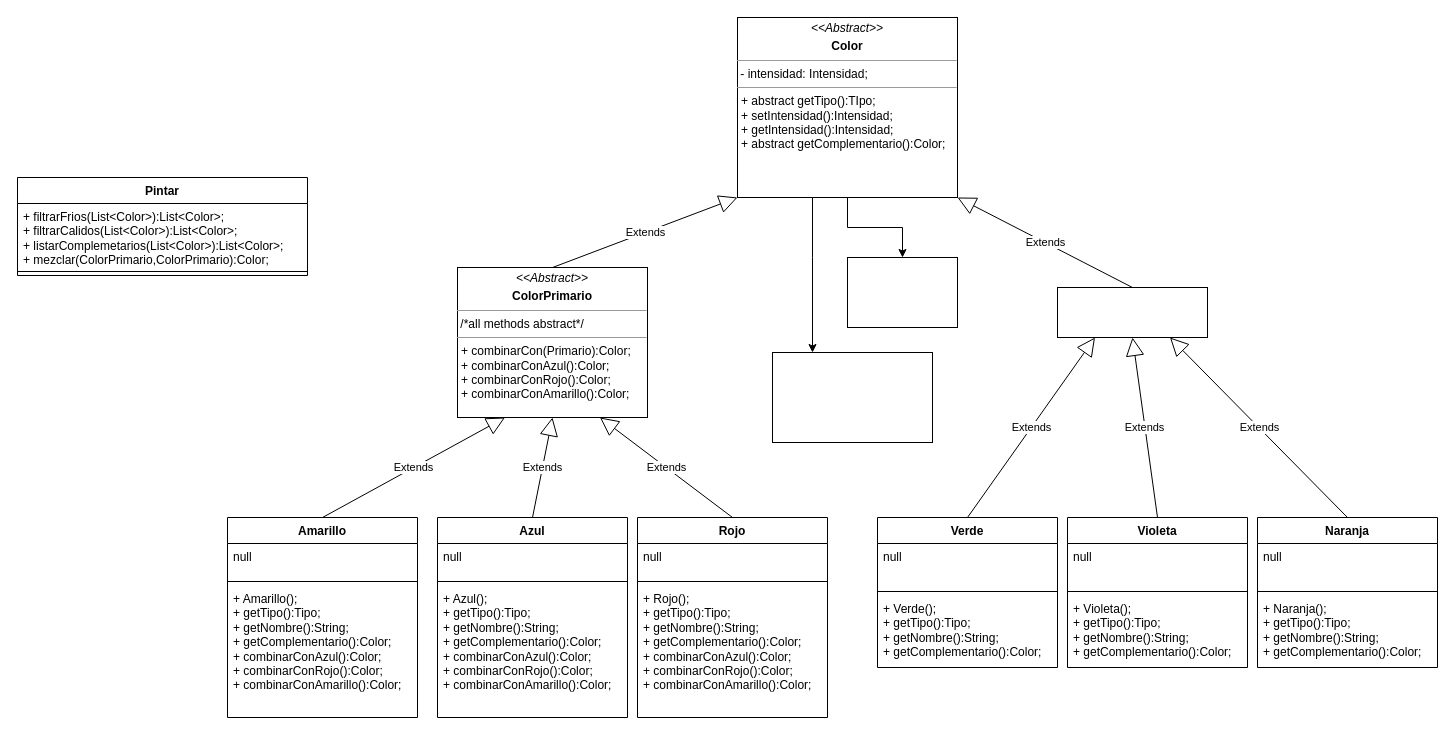
Image size: 1455x738. Some labels were removed from this diagram. The shapes that lost their labels are listed below. From the top down, each one's centre as x and y in pixels, then its label:
At (x=902, y=292): "Tipo:Enum +FRIO: Tipo; +CALIDO:Tipo;".
At (x=1132, y=312): "«Abstract» ColorSecundario".
At (x=852, y=397): "Intensidad:Enum + SUAVE: Intensidad; + MEDIO: Intensidad; + FUERTE: Intensdad;".
